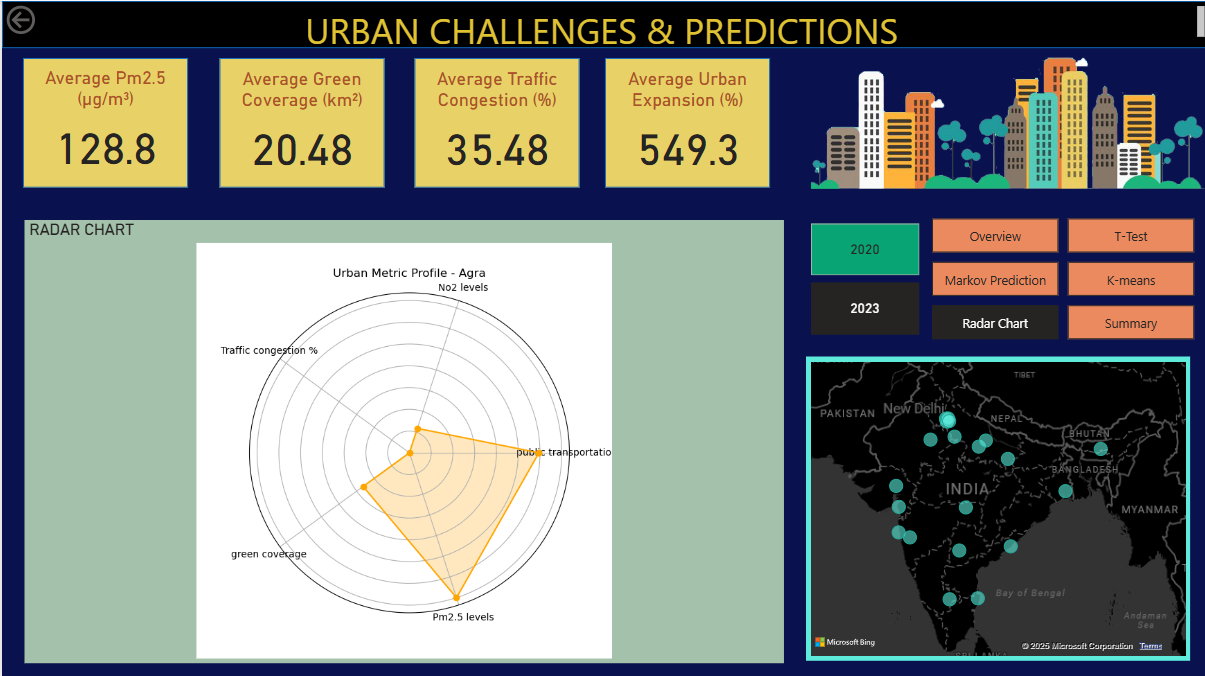

Layout of this report page (visuals, bound fields, positions):
{"tool":"powerbi","page":{"name":"Radar Chart","canvas":[1280,720],"ordinal":4},"visuals":[{"type":"image","box":[852.5,50,427.5,160],"z":0},{"type":"shape","box":[0,0,1280,50],"z":1000},{"type":"textbox","box":[0,0,1280,50],"z":2000},{"type":"shape","box":[640,60,175,137.5],"z":3000},{"type":"shape","box":[437.5,60,175,137.5],"z":4000},{"type":"shape","box":[230,60,175,137.5],"z":5000},{"type":"shape","box":[22.5,60,175,137.5],"z":6000},{"type":"map","fields":{"Category":["RadarChartTable.City"]},"box":[852.5,377.5,407.5,322.5],"z":7000},{"type":"pageNavigator","box":[986.2,230.6,278.4,128.8],"z":8000},{"type":"card","title":"Average Pm2.5 (µg/m³)","fields":{"Values":["Avg(RadarChartTable.Pm2.5 levels)"]},"box":[36.6,70,146.3,117.7],"z":9000},{"type":"card","title":"Average Green Coverage (km²)","fields":{"Values":["Avg(RadarChartTable.green coverage)"]},"box":[245,71.6,146.3,117.7],"z":10000},{"type":"card","title":"Average Traffic Congestion (%)","fields":{"Values":["Avg(RadarChartTable.Traffic congestion %)"]},"box":[451.7,71.6,146.3,117.7],"z":11000},{"type":"card","title":"Average Urban Expansion (%)","fields":{"Values":["Avg(RadarChartTable.urban expansion )"]},"box":[653.7,71.6,146.3,117.7],"z":12000},{"type":"advancedSlicerVisual","fields":{"Values":["Sheet1.YEAR"]},"box":[852.6,230.6,125.7,128.8],"z":13000},{"type":"actionButton","box":[0,0,100,40],"z":14000},{"type":"pythonVisual","title":"RADAR CHART","fields":{"Values":["RadarChartTable.CITY","RadarChartTable.public transportation usage","Sum(RadarChartTable.No2 levels)","RadarChartTable.Traffic congestion %","RadarChartTable.YEAR","RadarChartTable.green coverage","RadarChartTable.Pm2.5 levels"]},"box":[23.3,231.7,805,470],"z":15000}]}

Visuals, with their boxes in screenshot pixels (x1, y1, x2, y2), scaled from the page's 1280x720 canvas onto the 1205x676 screenshot:
image: (x1=803, y1=47, x2=1204, y2=197)
shape: (x1=0, y1=0, x2=1204, y2=47)
textbox: (x1=0, y1=0, x2=1204, y2=47)
shape: (x1=602, y1=56, x2=767, y2=185)
shape: (x1=412, y1=56, x2=577, y2=185)
shape: (x1=217, y1=56, x2=381, y2=185)
shape: (x1=21, y1=56, x2=186, y2=185)
map - RadarChartTable.City: (x1=803, y1=354, x2=1186, y2=657)
pageNavigator: (x1=928, y1=217, x2=1191, y2=337)
"Average Pm2.5 (µg/m³)" card: (x1=34, y1=66, x2=172, y2=176)
"Average Green Coverage (km²)" card: (x1=231, y1=67, x2=368, y2=178)
"Average Traffic Congestion (%)" card: (x1=425, y1=67, x2=563, y2=178)
"Average Urban Expansion (%)" card: (x1=615, y1=67, x2=753, y2=178)
advancedSlicerVisual - Sheet1.YEAR: (x1=803, y1=217, x2=921, y2=337)
actionButton: (x1=0, y1=0, x2=94, y2=38)
"RADAR CHART" pythonVisual: (x1=22, y1=218, x2=780, y2=659)
